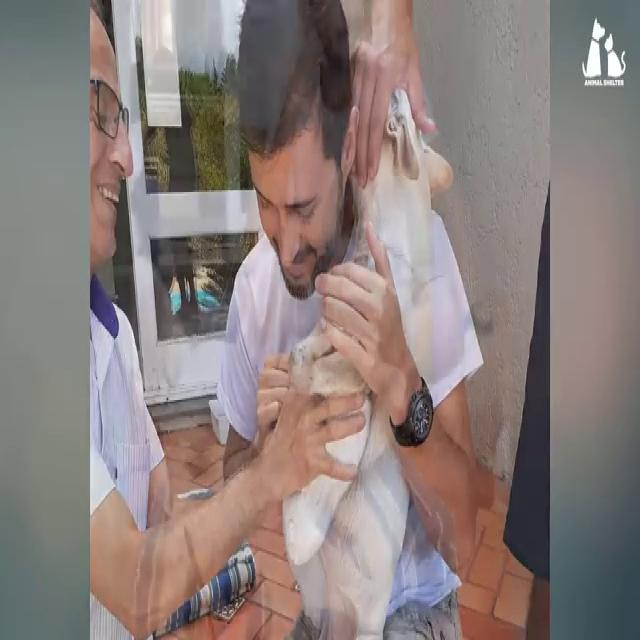injured-animals: (265, 81, 462, 634)
